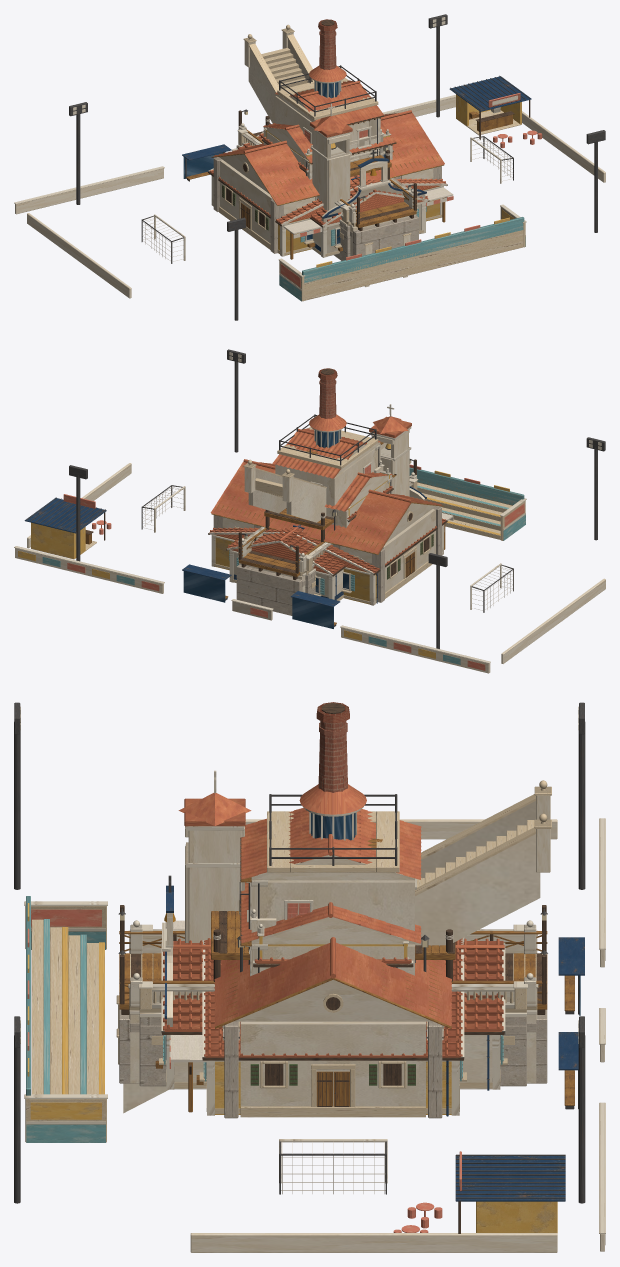
The model's file is kit.glb.
3 views of the same model, one above another, from view 1: azimuth 30°, elevation 25°; view 2: azimuth 150°, elevation 25°; view 3: azimuth 270°, elevation 25° (orthographic). The views are drawn at different scales.
Parts seen in each view (by area): view 1: campinho_LOD0, engenho_LOD0, church_LOD0, escadaria_LOD0, market_hall_LOD0, row_alto_LOD0, bridge_wood_LOD0, church_hill_LOD0, lighthouse_LOD0, row_loja_LOD0, bridge_arch_LOD0, chamine_LOD0 (+2 smaller); view 2: campinho_LOD0, engenho_LOD0, church_LOD0, bridge_wood_LOD0, row_alto_LOD0, market_hall_LOD0, escadaria_LOD0, lighthouse_LOD0, church_hill_LOD0, row_loja_LOD0, chamine_LOD0, bridge_arch_LOD0 (+2 smaller); view 3: campinho_LOD0, engenho_LOD0, escadaria_LOD0, church_LOD0, row_alto_LOD0, market_hall_LOD0, church_hill_LOD0, lighthouse_LOD0, row_loja_LOD0, bridge_wood_LOD0, bridge_arch_LOD0, bridge_chapel_LOD0 (+2 smaller).
Boxes of the visible parts, left/top/right/bottom form: campinho_LOD0: left=14, top=14, right=605, bottom=320; engenho_LOD0: left=211, top=110, right=444, bottom=253; church_LOD0: left=238, top=103, right=429, bottom=257; escadaria_LOD0: left=243, top=24, right=411, bottom=287; market_hall_LOD0: left=208, top=168, right=453, bottom=259; row_alto_LOD0: left=275, top=80, right=384, bottom=160; bridge_wood_LOD0: left=236, top=109, right=418, bottom=255; church_hill_LOD0: left=234, top=132, right=428, bottom=256; lighthouse_LOD0: left=277, top=65, right=378, bottom=120; row_loja_LOD0: left=263, top=121, right=396, bottom=179; bridge_arch_LOD0: left=237, top=123, right=418, bottom=260; chamine_LOD0: left=318, top=19, right=337, bottom=69; campinho_LOD0: left=14, top=349, right=605, bottom=673; engenho_LOD0: left=210, top=459, right=444, bottom=602; church_LOD0: left=226, top=404, right=411, bottom=600; bridge_wood_LOD0: left=236, top=459, right=416, bottom=615; row_alto_LOD0: left=272, top=428, right=383, bottom=505; market_hall_LOD0: left=208, top=513, right=453, bottom=605; escadaria_LOD0: left=243, top=459, right=326, bottom=522; lighthouse_LOD0: left=277, top=414, right=378, bottom=469; church_hill_LOD0: left=227, top=435, right=426, bottom=600; row_loja_LOD0: left=273, top=471, right=396, bottom=527; chamine_LOD0: left=318, top=368, right=337, bottom=418; bridge_arch_LOD0: left=237, top=478, right=418, bottom=594; campinho_LOD0: left=14, top=702, right=605, bottom=1252; engenho_LOD0: left=214, top=937, right=451, bottom=1118; escadaria_LOD0: left=116, top=780, right=551, bottom=1113; church_LOD0: left=156, top=770, right=507, bottom=1090; row_alto_LOD0: left=239, top=808, right=421, bottom=936; market_hall_LOD0: left=169, top=920, right=466, bottom=1116; church_hill_LOD0: left=155, top=875, right=507, bottom=1089; lighthouse_LOD0: left=267, top=784, right=399, bottom=872; row_loja_LOD0: left=240, top=882, right=421, bottom=976; bridge_wood_LOD0: left=118, top=905, right=547, bottom=1083; bridge_arch_LOD0: left=138, top=924, right=527, bottom=1086; bridge_chapel_LOD0: left=128, top=920, right=538, bottom=1083.
Size of what is drawn, in the model's own units: 48.25 by 20.94 by 29.04.
1 material, 1 textured.
